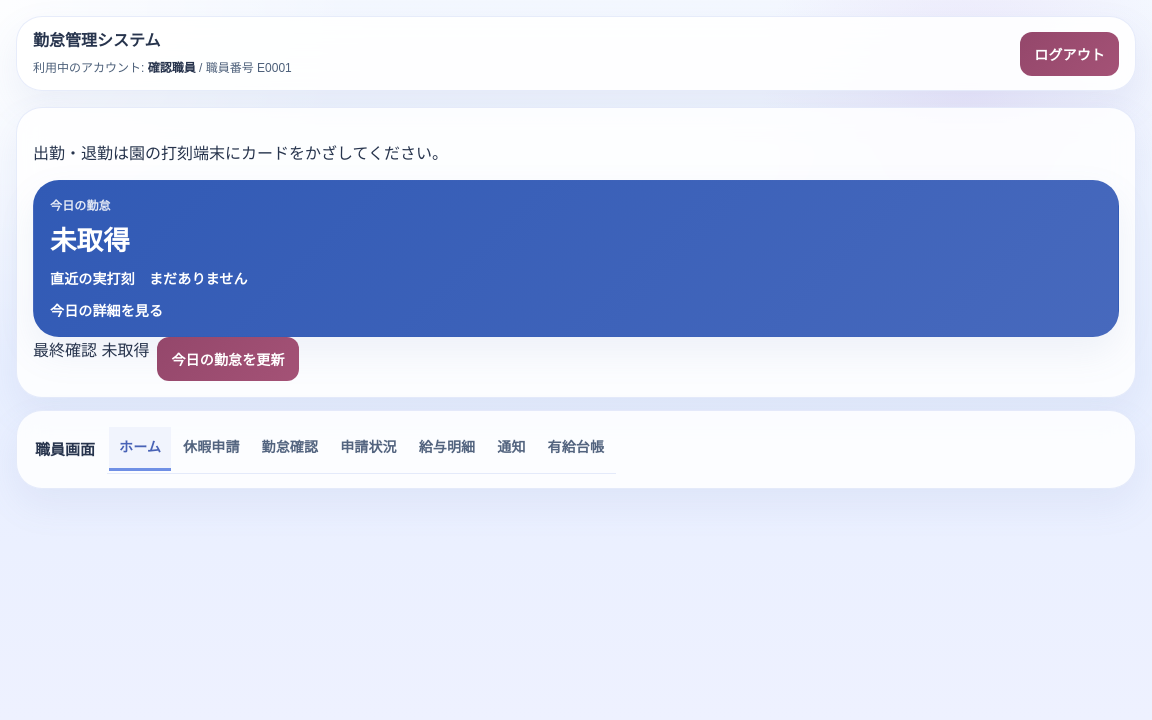
Test: EmployeePortalSection › 職員メニューから通知一覧へ切り替えられる
Check: the element named "職員ホーム" is shown, box [16,107,1136,398]
Click the button "通知" at (511, 449), box [487,427,536,471]
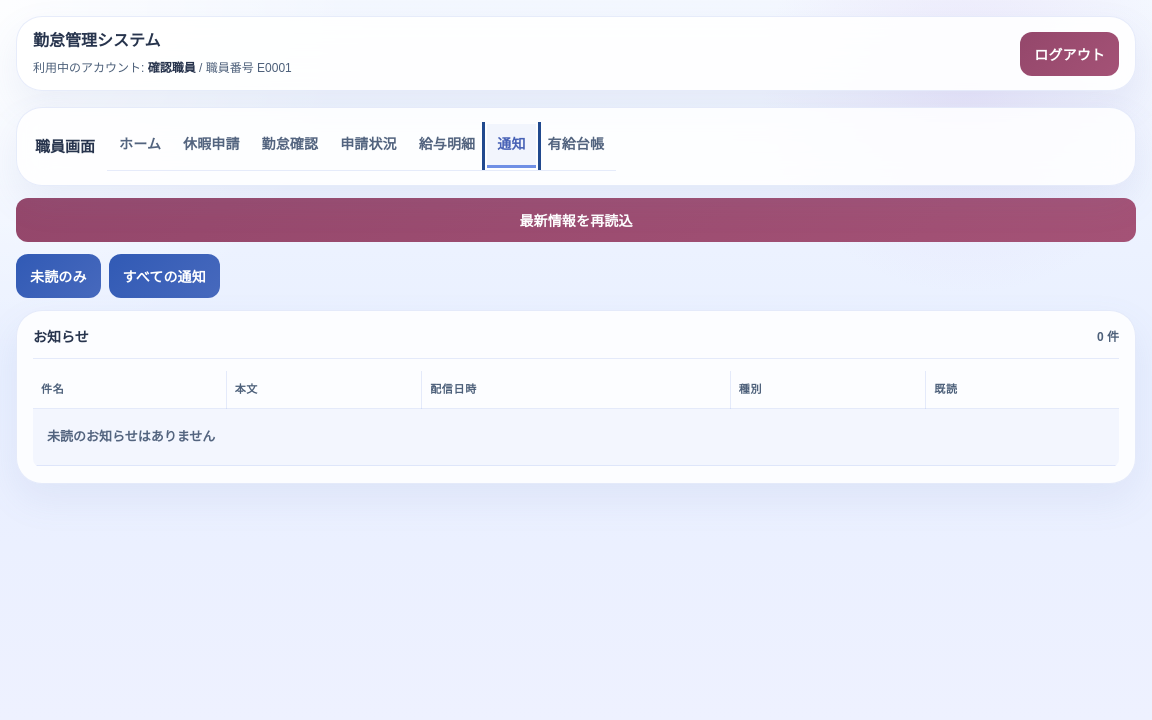
Check: the element "通知" is shown, box [16,254,1136,484]
